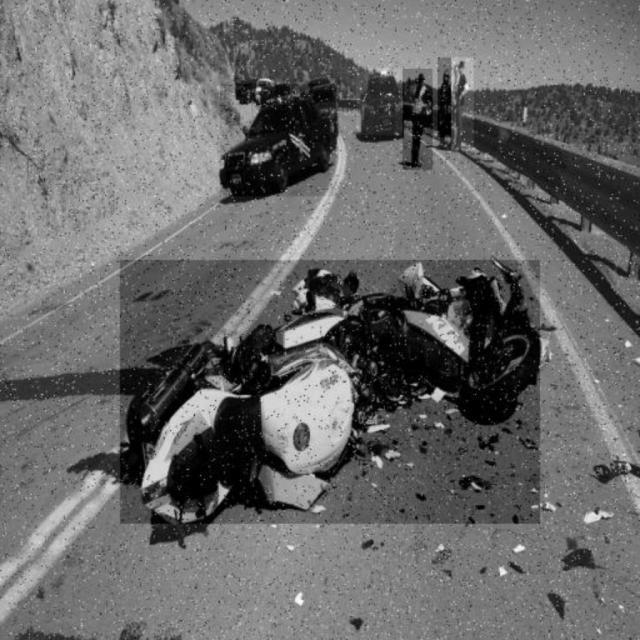accident: (121, 261, 541, 524)
person: (402, 69, 432, 170), (451, 58, 473, 150), (437, 58, 455, 138)
vehicle: (220, 84, 336, 196), (357, 68, 409, 135)
